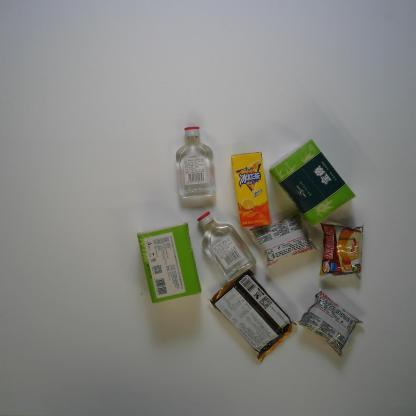Alcohol: (197, 210, 256, 282), (175, 125, 217, 203)
Dessert: (207, 268, 299, 363), (297, 286, 364, 360), (246, 213, 320, 270), (316, 221, 366, 280)
Drink: (231, 150, 270, 228)
Tissue: (268, 138, 356, 230), (136, 221, 202, 304)
